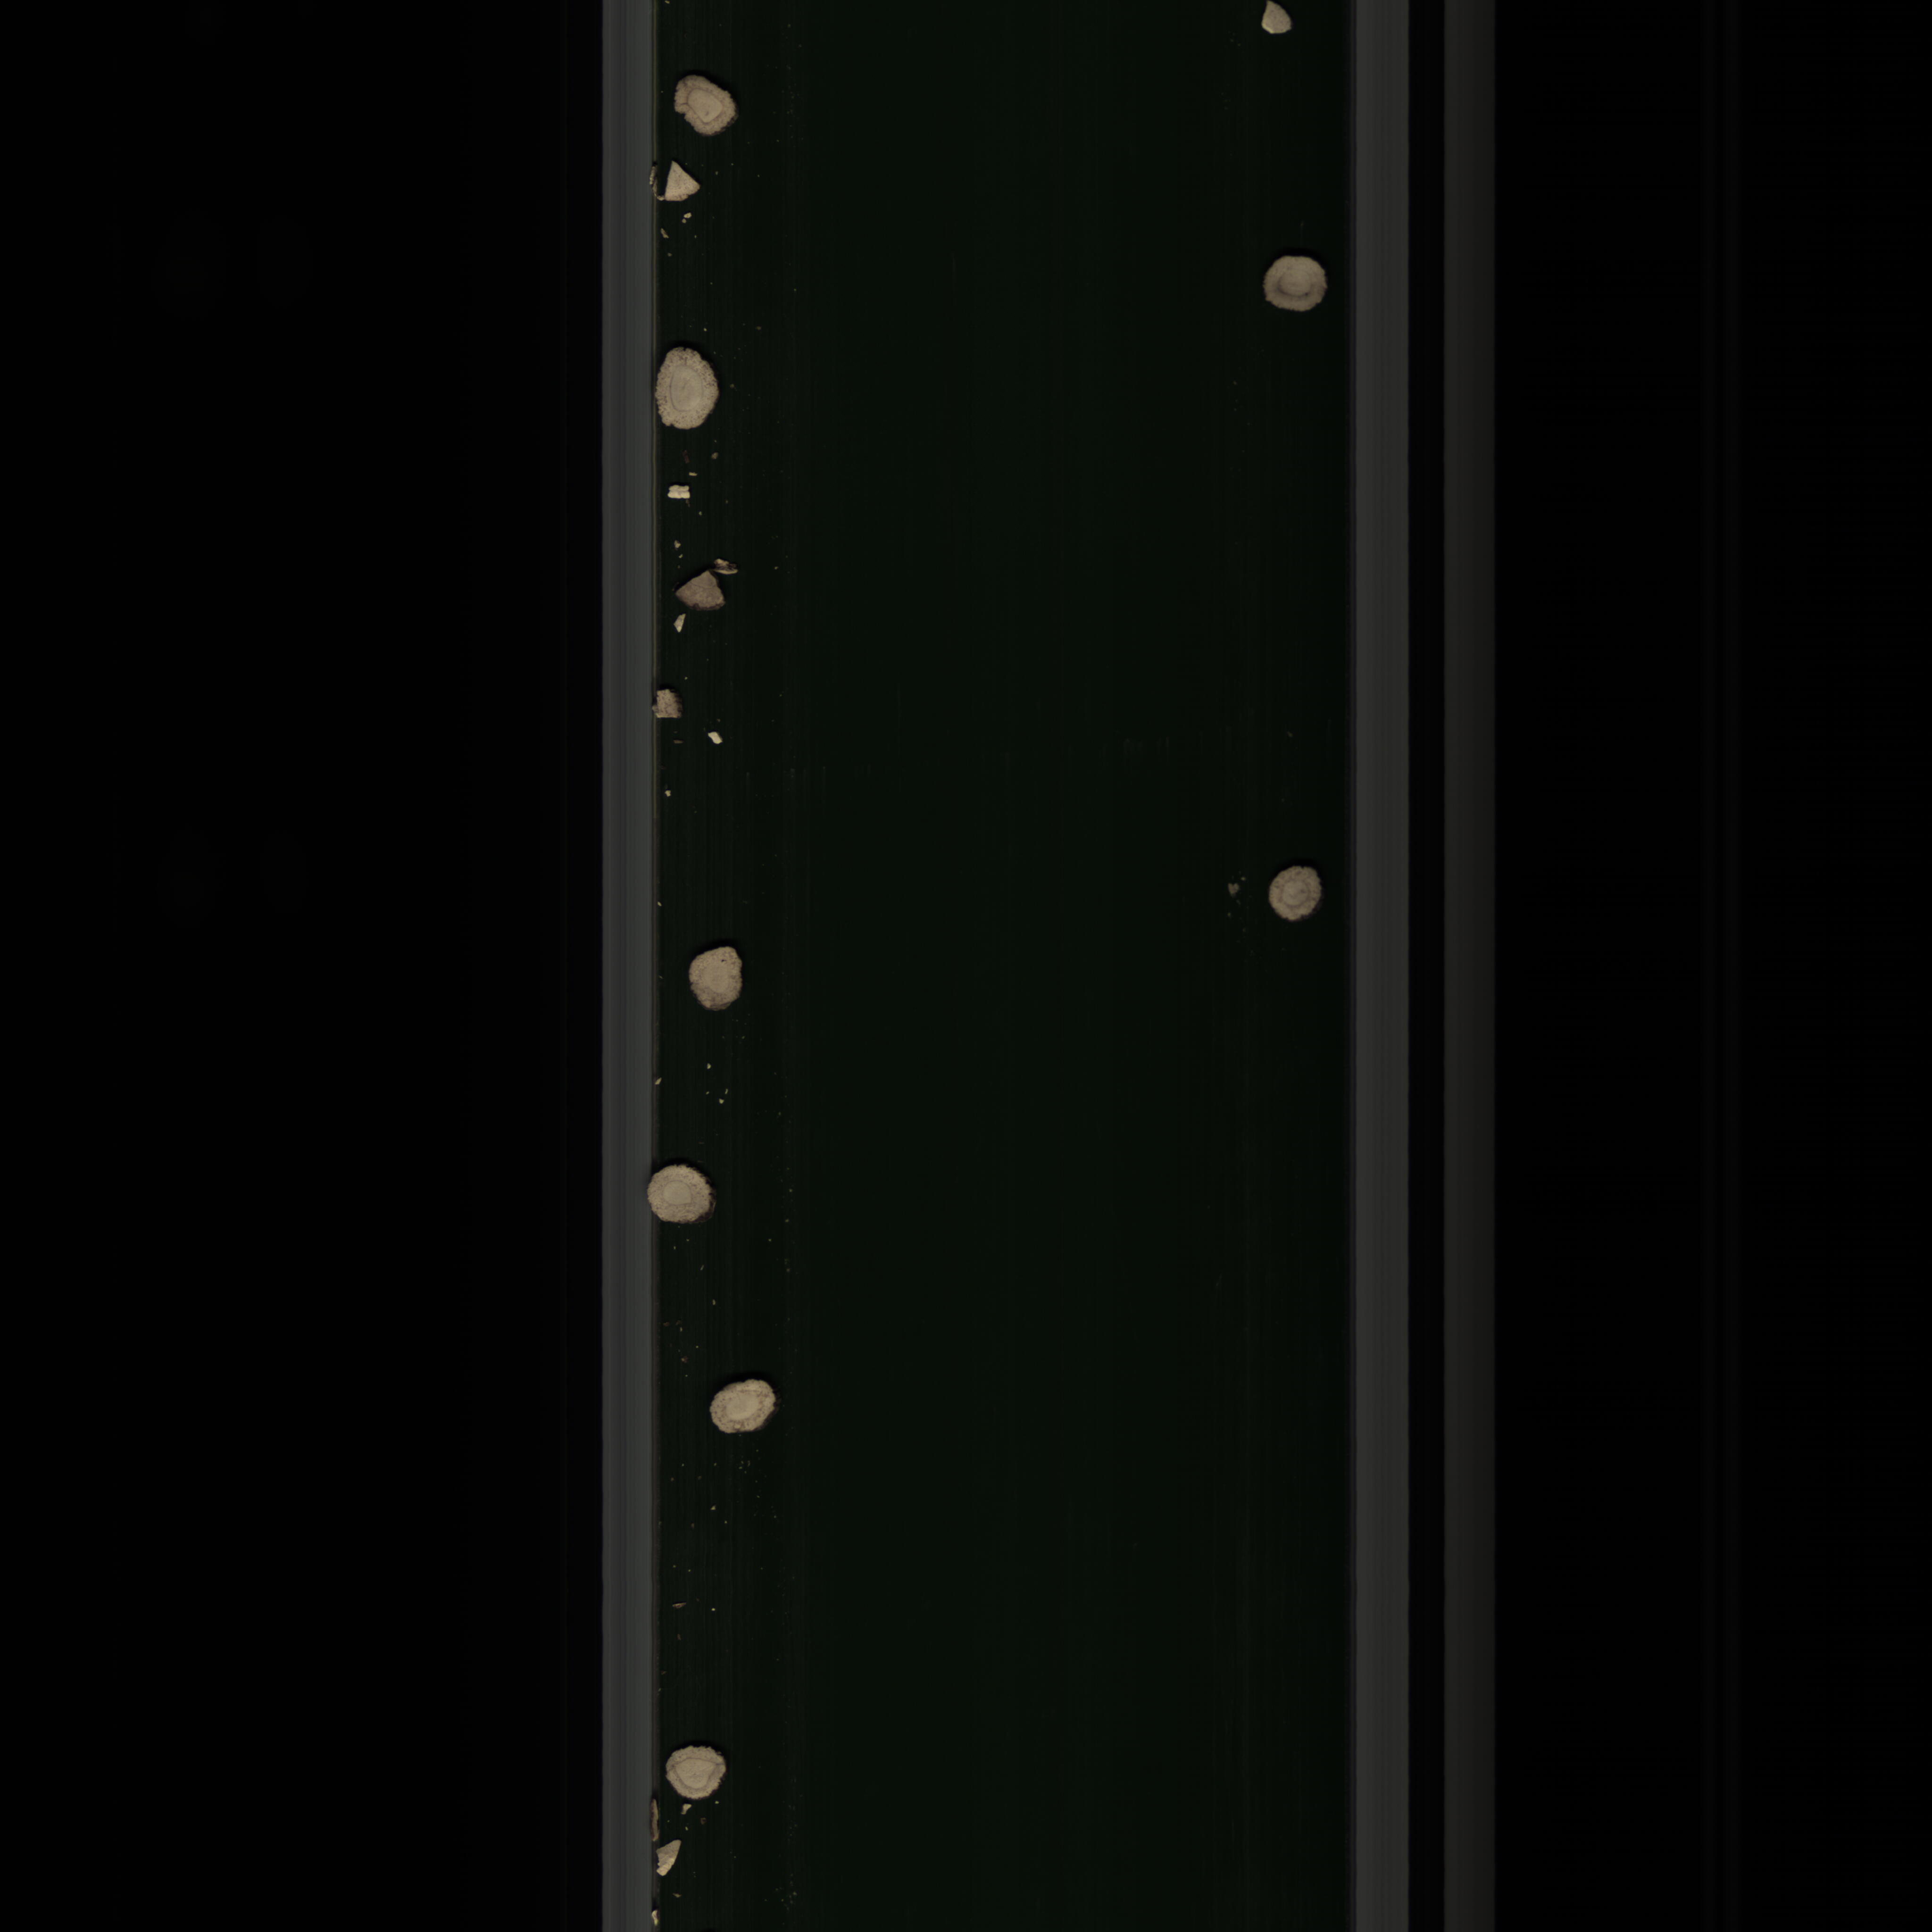debris: (671, 561, 748, 616), (656, 156, 717, 209), (651, 1831, 685, 1888), (1254, 2, 1293, 46), (651, 686, 690, 722), (663, 483, 708, 506)
